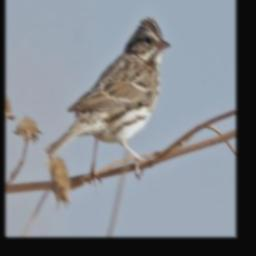Sparrow: (43, 16, 171, 190)
